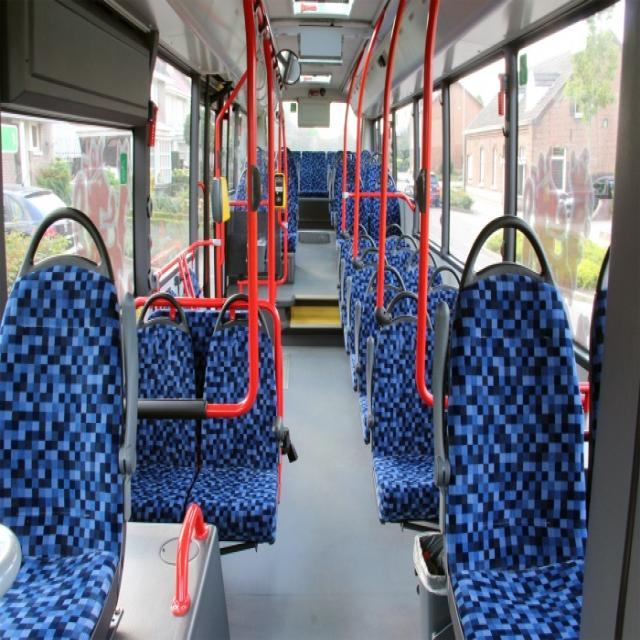empty-seat-frontal: (184, 293, 279, 542)
